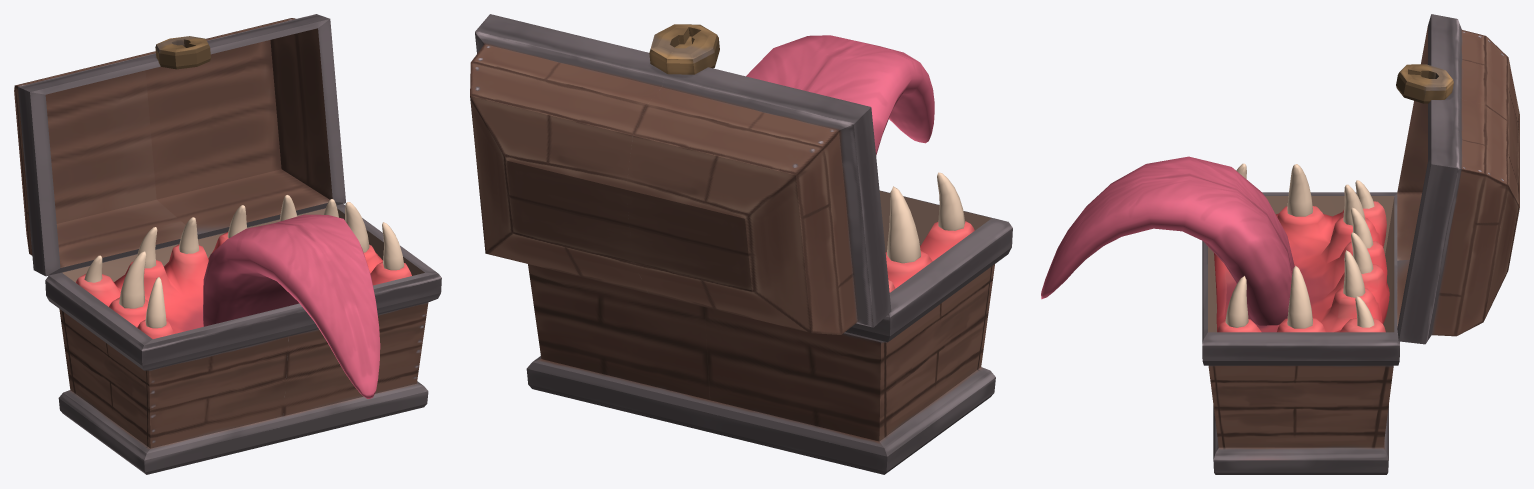
The model's file is Mimic.fbx.
3 views of the same model, side by side, from view 1: azimuth 30°, elevation 25°; view 2: azimuth 150°, elevation 25°; view 3: azimuth 270°, elevation 25° (orthographic). The views are drawn at different scales.
Visible parts, largest first — view 1: Cube.001; view 2: Cube.001; view 3: Cube.001.
Boxes of the visible parts, x1,y1,x2,y2 form: Cube.001: (14,14,441,474); Cube.001: (470,14,1012,474); Cube.001: (1041,14,1519,474).
Size of the model in its own units: 450 by 469 by 606.
Materials: 1 (1 with a texture image).
